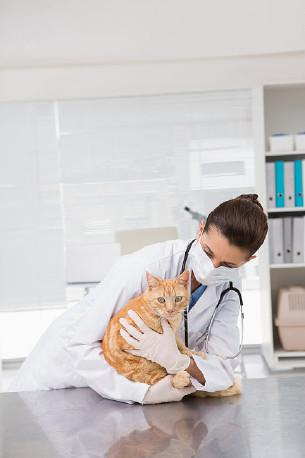OK: (191, 238, 242, 289)
